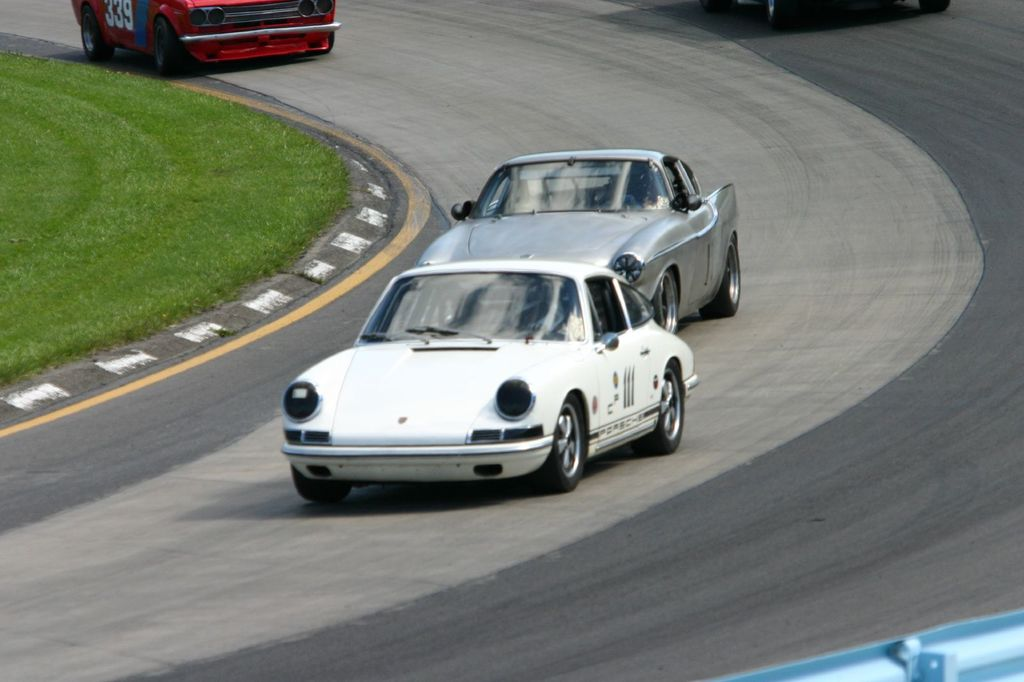Car: (280, 260, 701, 508), (414, 151, 739, 335), (69, 0, 341, 78), (700, 0, 952, 33)
